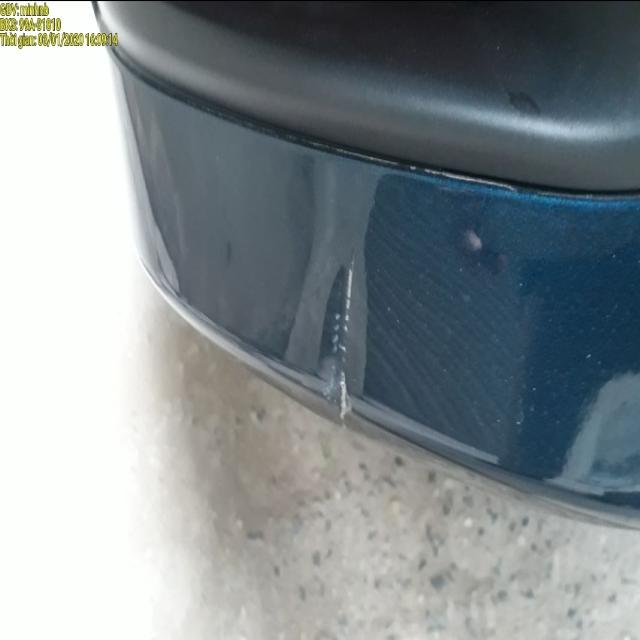Rayure: (334, 246, 364, 435)
